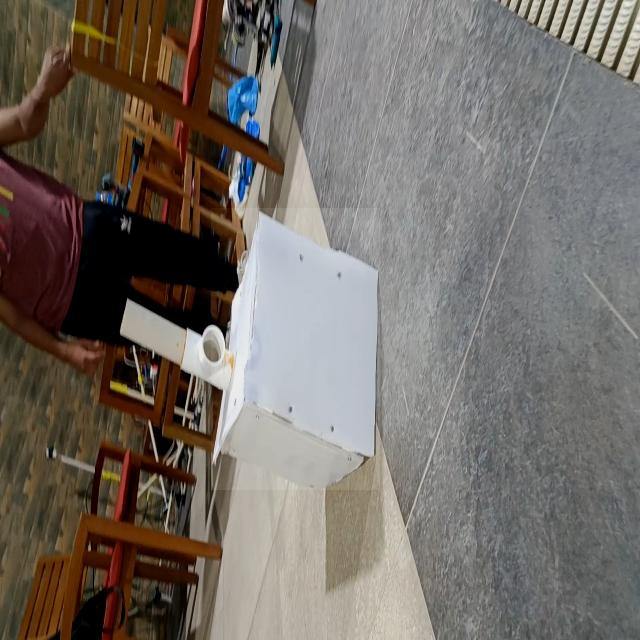Cube: (211, 208, 380, 490)
